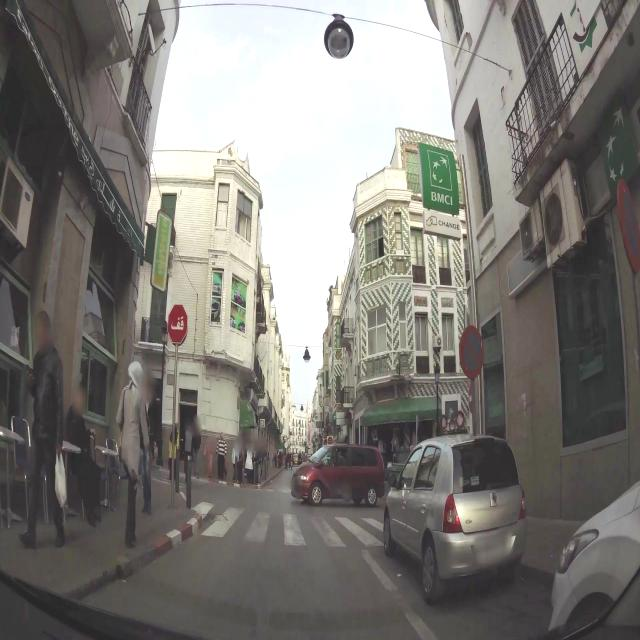car: (382, 432, 527, 604), (549, 464, 640, 636), (290, 442, 385, 508)
